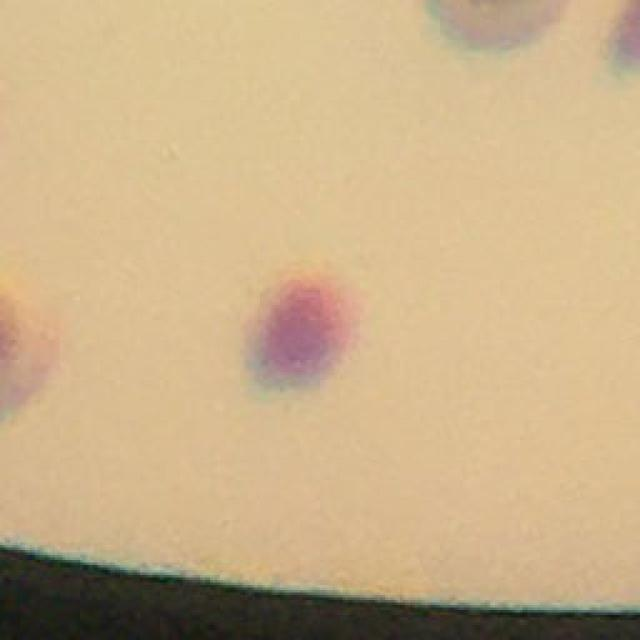RBC: (0, 284, 66, 423)
WBC: (243, 277, 365, 399)
